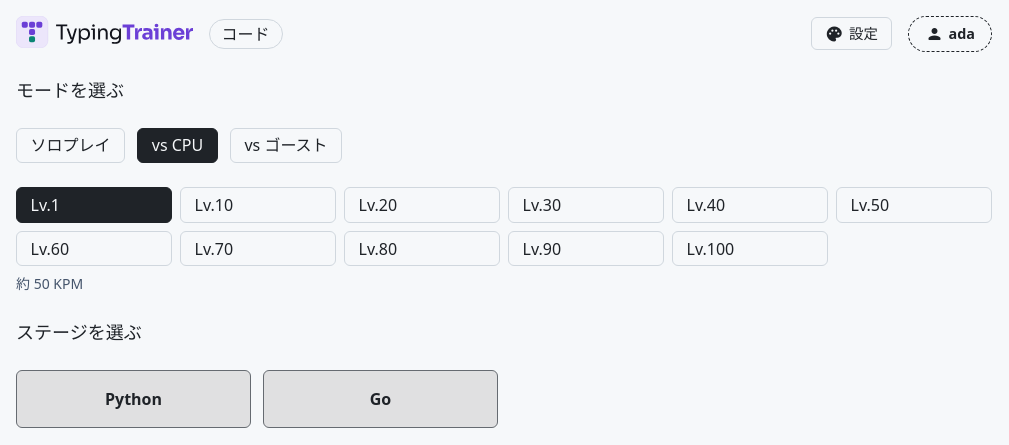
the language screen in Japanese › shows the Ghost options, periods, and records in Japanese
Click the button "vs ゴースト" at (286, 145), box [230, 128, 342, 163]
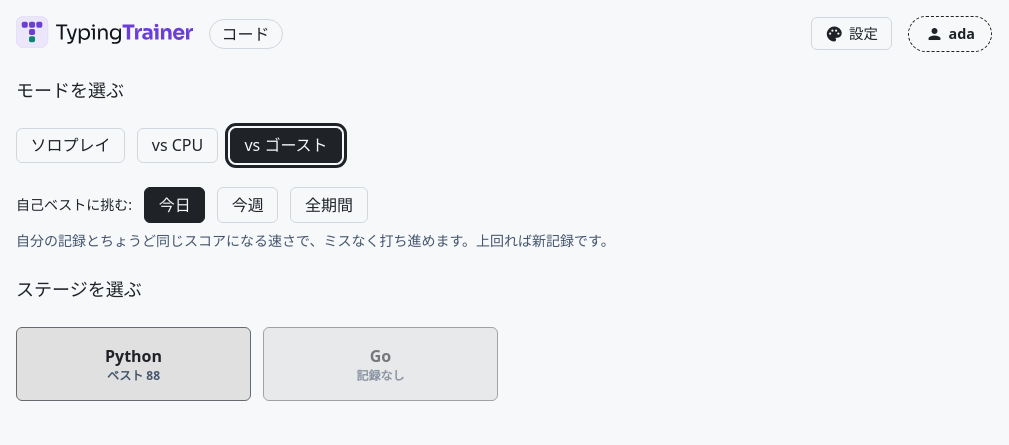
Now the buttons read "今日", "今週", "全期間", in this order, box [144, 187, 205, 223]; [217, 187, 278, 223]; [290, 187, 368, 223]
Now the button "Python ベスト 88" is shown, box [16, 327, 251, 401]
Now the button "Go 記録なし" is disabled, box [263, 327, 498, 401]
